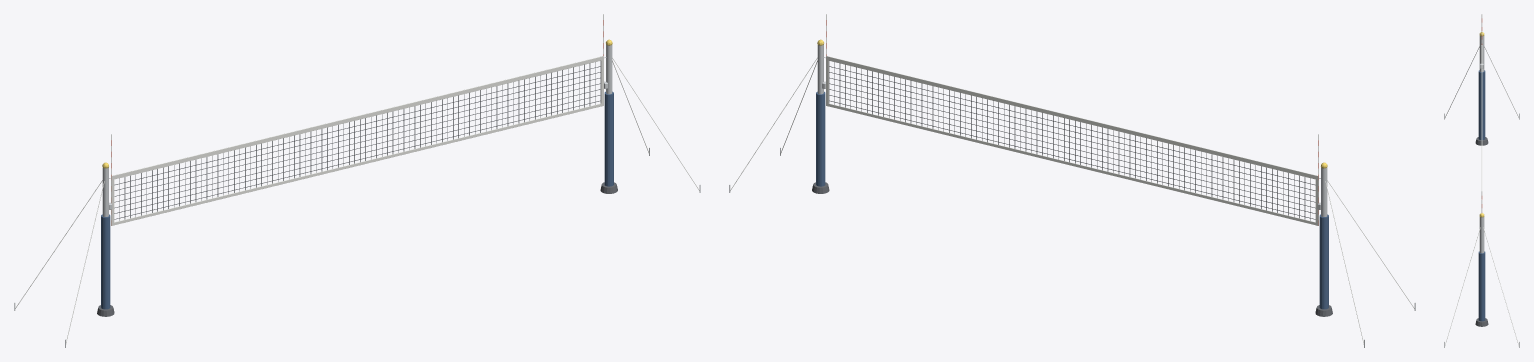
File: beach-surf-and-paddle-kit-volleyball-net-e371f956.glb
3 views of the same model, side by side, from view 1: azimuth 30°, elevation 25°; view 2: azimuth 150°, elevation 25°; view 3: azimuth 270°, elevation 25° (orthographic). The views are drawn at different scales.
Parts seen in each view (by area): view 1: volleyball-net-charcoal, volleyball-net-foam, volleyball-net-navy, volleyball-net-steel; view 2: volleyball-net-charcoal, volleyball-net-foam, volleyball-net-navy, volleyball-net-steel; view 3: volleyball-net-navy, volleyball-net-foam, volleyball-net-steel, volleyball-net-charcoal.
Part boxes in pixels (x1=…): volleyball-net-charcoal: x1=97, y1=61, x2=617, y2=316; volleyball-net-foam: x1=15, y1=14, x2=699, y2=344; volleyball-net-navy: x1=101, y1=91, x2=613, y2=309; volleyball-net-steel: x1=14, y1=44, x2=700, y2=347; volleyball-net-charcoal: x1=812, y1=61, x2=1332, y2=316; volleyball-net-foam: x1=730, y1=14, x2=1414, y2=344; volleyball-net-navy: x1=816, y1=91, x2=1328, y2=309; volleyball-net-steel: x1=729, y1=44, x2=1415, y2=347; volleyball-net-navy: x1=1478, y1=70, x2=1485, y2=321; volleyball-net-foam: x1=1445, y1=14, x2=1518, y2=345; volleyball-net-steel: x1=1444, y1=36, x2=1519, y2=347; volleyball-net-charcoal: x1=1475, y1=137, x2=1488, y2=326.
Size of the model in its own units: 11.62 by 3.1 by 1.62.
